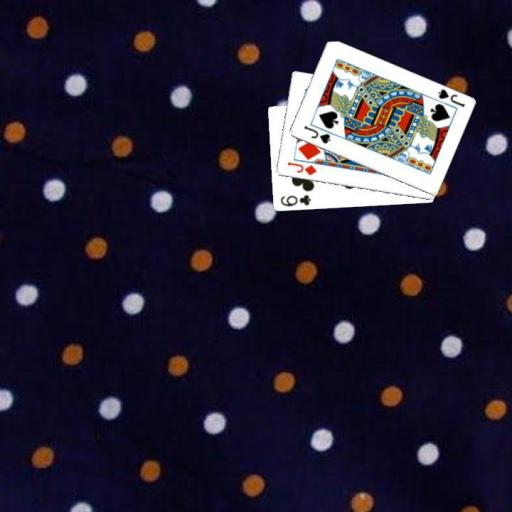6C: (278, 192, 313, 208)
JD: (284, 159, 318, 177)
JS: (434, 86, 466, 109), (301, 122, 332, 145)
